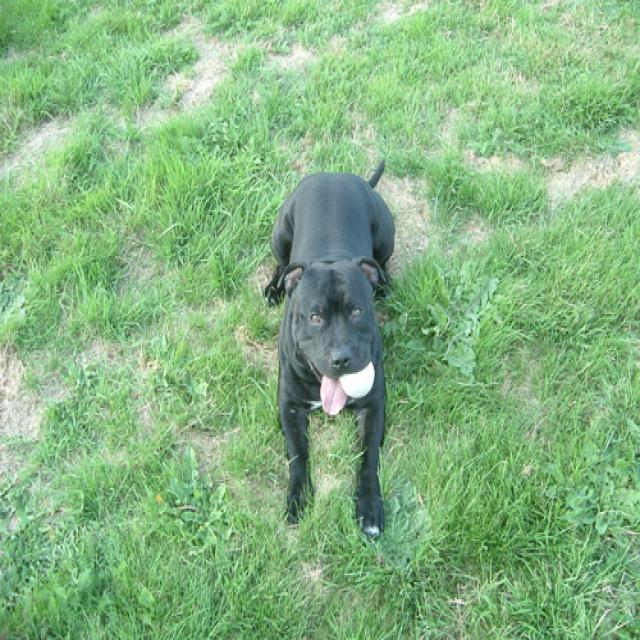dog: (272, 251, 382, 413)
